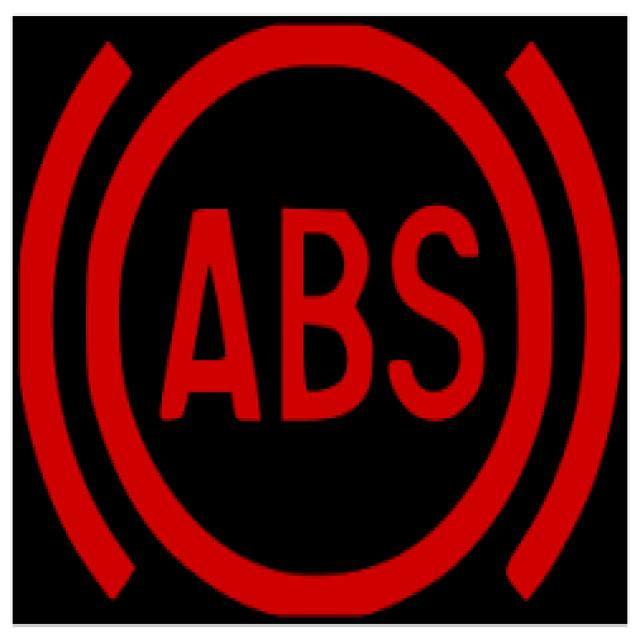kontrolka: (2, 6, 630, 624)
